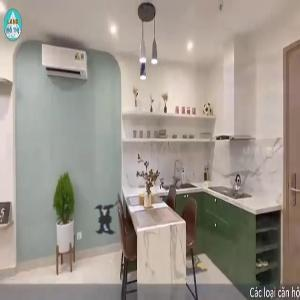drone: (66, 183, 145, 262)
